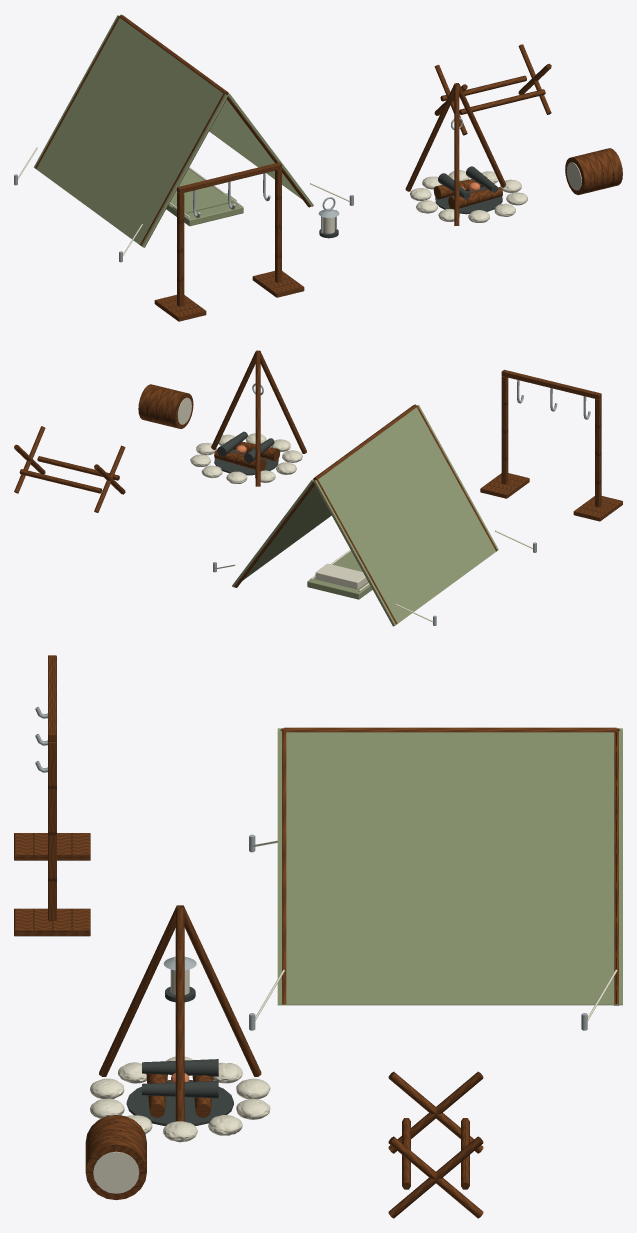
File: wilderness-survival-camp-first-night-cam-9c43cdbb-starter-scene__21977.glb
The picture shows the model from 3 angles, top to bottom: view 1: azimuth 30°, elevation 25°; view 2: azimuth 150°, elevation 25°; view 3: azimuth 270°, elevation 25°; orthographic projection. The views are drawn at different scales.
Visible parts, largest first — view 1: 000-ridge-tarp/1, 008-hanging-gear-rail/0, 004-tripod-pot-hanger/0, 002-stone-fire-ring/0, 000-ridge-tarp/0, 006-firewood-cradle/0, 001-unrolled-bedroll/0, 005-log-seat/0, 003-split-log-fire/0, 003-split-log-fire/1, 002-stone-fire-ring/1; view 2: 000-ridge-tarp/1, 008-hanging-gear-rail/0, 006-firewood-cradle/0, 004-tripod-pot-hanger/0, 002-stone-fire-ring/0, 000-ridge-tarp/0, 005-log-seat/0, 001-unrolled-bedroll/1, 001-unrolled-bedroll/0, 003-split-log-fire/0, 003-split-log-fire/1, 002-stone-fire-ring/1; view 3: 000-ridge-tarp/1, 008-hanging-gear-rail/0, 004-tripod-pot-hanger/0, 006-firewood-cradle/0, 000-ridge-tarp/0, 002-stone-fire-ring/0, 005-log-seat/0, 003-split-log-fire/1, 002-stone-fire-ring/1, 005-log-seat/1, 003-split-log-fire/0.
Part boxes in pixels (x1,y1,x2,y2): 000-ridge-tarp/1: (33, 14, 313, 247); 008-hanging-gear-rail/0: (154, 162, 304, 321); 004-tripod-pot-hanger/0: (405, 83, 506, 225); 002-stone-fire-ring/0: (410, 170, 527, 222); 000-ridge-tarp/0: (35, 15, 311, 247); 006-firewood-cradle/0: (434, 44, 551, 135); 001-unrolled-bedroll/0: (166, 169, 243, 226); 005-log-seat/0: (565, 148, 622, 194); 003-split-log-fire/0: (433, 176, 502, 209); 003-split-log-fire/1: (438, 166, 498, 199); 002-stone-fire-ring/1: (435, 186, 502, 214); 000-ridge-tarp/1: (232, 404, 498, 626); 008-hanging-gear-rail/0: (480, 369, 622, 521); 006-firewood-cradle/0: (14, 426, 125, 512); 004-tripod-pot-hanger/0: (211, 350, 306, 486); 002-stone-fire-ring/0: (190, 433, 302, 483); 000-ridge-tarp/0: (234, 404, 497, 625); 005-log-seat/0: (138, 384, 193, 428); 001-unrolled-bedroll/1: (310, 549, 369, 591); 001-unrolled-bedroll/0: (307, 551, 372, 599); 003-split-log-fire/0: (214, 439, 280, 470); 003-split-log-fire/1: (217, 431, 274, 463); 002-stone-fire-ring/1: (214, 449, 278, 475); 000-ridge-tarp/1: (277, 728, 622, 1005); 008-hanging-gear-rail/0: (14, 655, 90, 936); 004-tripod-pot-hanger/0: (99, 905, 261, 1121); 006-firewood-cradle/0: (388, 1071, 483, 1218); 000-ridge-tarp/0: (280, 727, 620, 1005); 002-stone-fire-ring/0: (90, 1056, 270, 1142); 005-log-seat/0: (85, 1115, 146, 1200); 003-split-log-fire/1: (142, 1059, 218, 1098); 002-stone-fire-ring/1: (126, 1080, 233, 1125); 005-log-seat/1: (93, 1151, 139, 1193); 003-split-log-fire/0: (146, 1074, 213, 1117).
Size of the model in its own units: 7.03 by 1.85 by 4.76.
Materials: 6 (1 with a texture image).
